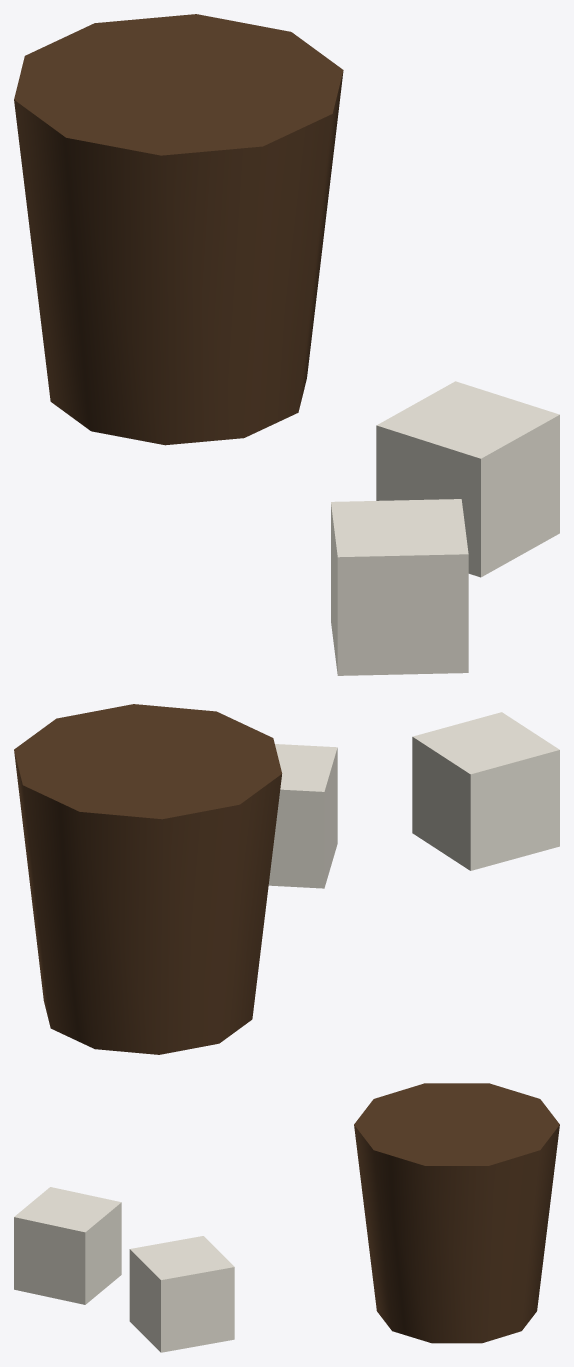
The model's file is dice.glb.
3 views of the same model, one above another, from view 1: azimuth 30°, elevation 25°; view 2: azimuth 150°, elevation 25°; view 3: azimuth 270°, elevation 25° (orthographic). The views are drawn at different scales.
Visible parts, largest first — view 1: #5a3e26, #f0ece0; view 2: #5a3e26, #f0ece0; view 3: #5a3e26, #f0ece0.
Boxes of the visible parts, bbox=[...] form: #5a3e26: bbox=[14, 14, 343, 445]; #f0ece0: bbox=[331, 381, 559, 675]; #5a3e26: bbox=[14, 704, 282, 1054]; #f0ece0: bbox=[268, 712, 559, 888]; #5a3e26: bbox=[354, 1083, 559, 1343]; #f0ece0: bbox=[14, 1187, 234, 1352].
Size of the model in its own units: 0.0965 by 0.09 by 0.2385.
